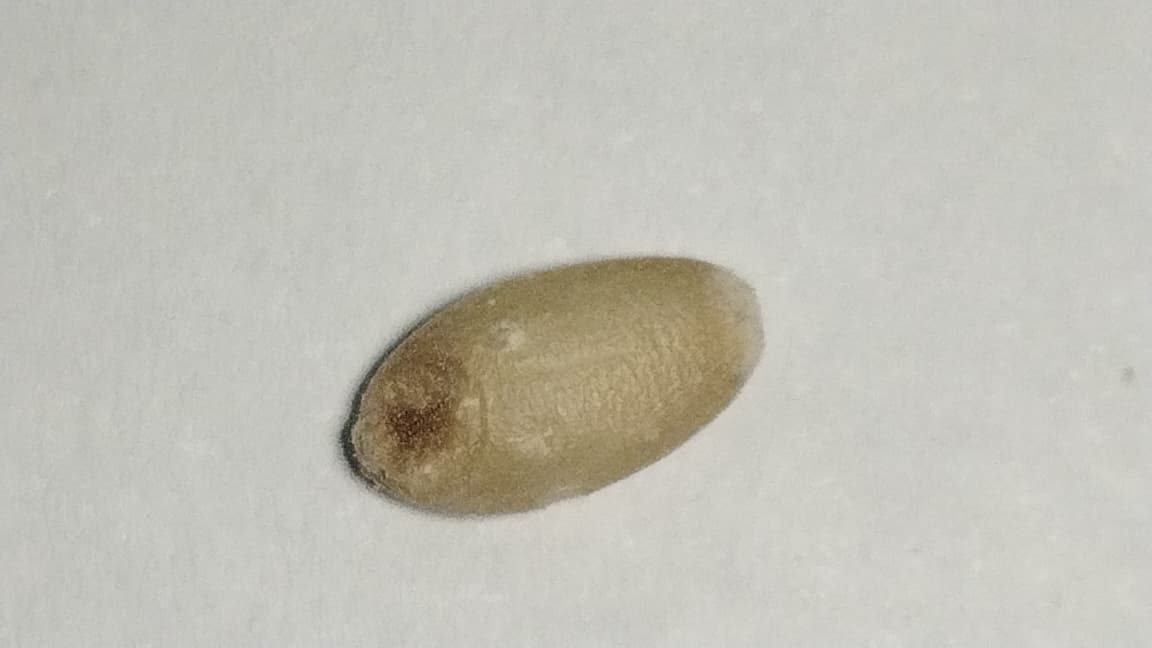damage: (343, 253, 762, 514)
staindamage: (354, 327, 483, 449), (479, 320, 525, 354)
